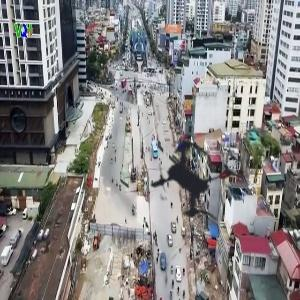drone: (99, 92, 284, 277)
